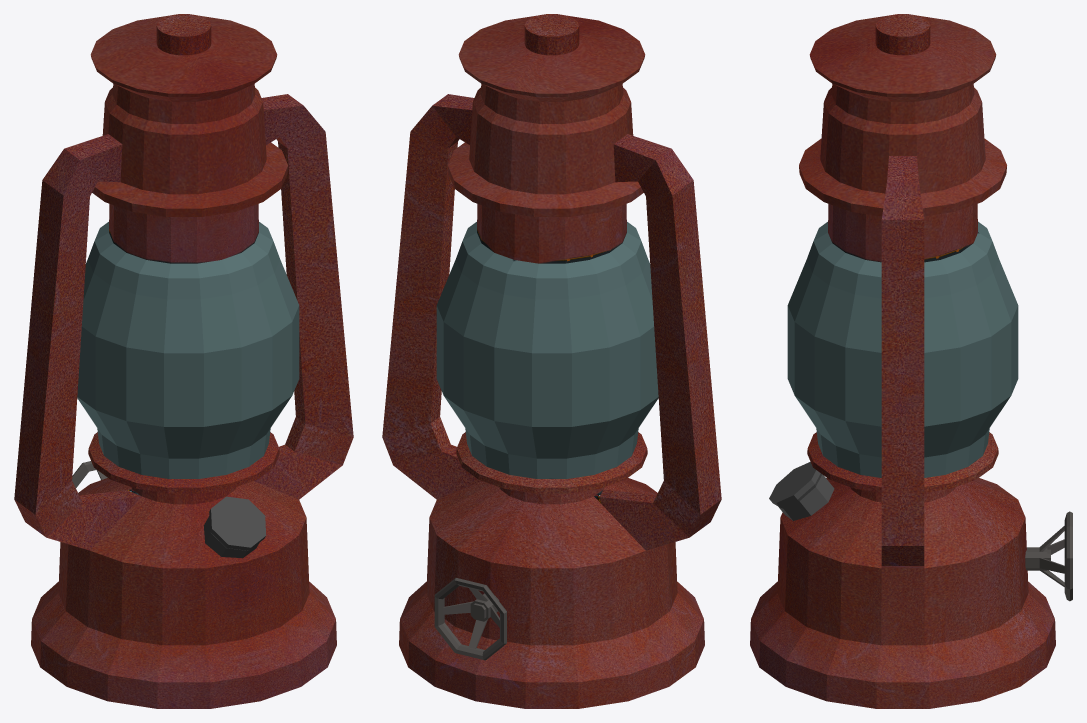
File: farol.fbx
The picture shows the model from 3 angles, left to right: view 1: azimuth 30°, elevation 25°; view 2: azimuth 150°, elevation 25°; view 3: azimuth 270°, elevation 25°; orthographic projection.
Visible parts, largest first — view 1: Cylinder, Cylinder.001; view 2: Cylinder, MANECILLA; view 3: Cylinder, Cylinder.001, MANECILLA.
Part boxes in pixels (left/top/right/bottom): Cylinder: left=14, top=14, right=353, bottom=708; Cylinder.001: left=203, top=496, right=266, bottom=558; Cylinder: left=382, top=14, right=721, bottom=708; MANECILLA: left=434, top=578, right=506, bottom=660; Cylinder: left=750, top=14, right=1055, bottom=708; Cylinder.001: left=769, top=462, right=834, bottom=520; MANECILLA: left=1025, top=511, right=1072, bottom=601.
Bounding box in the file's own units: 174 × 323 × 153.
